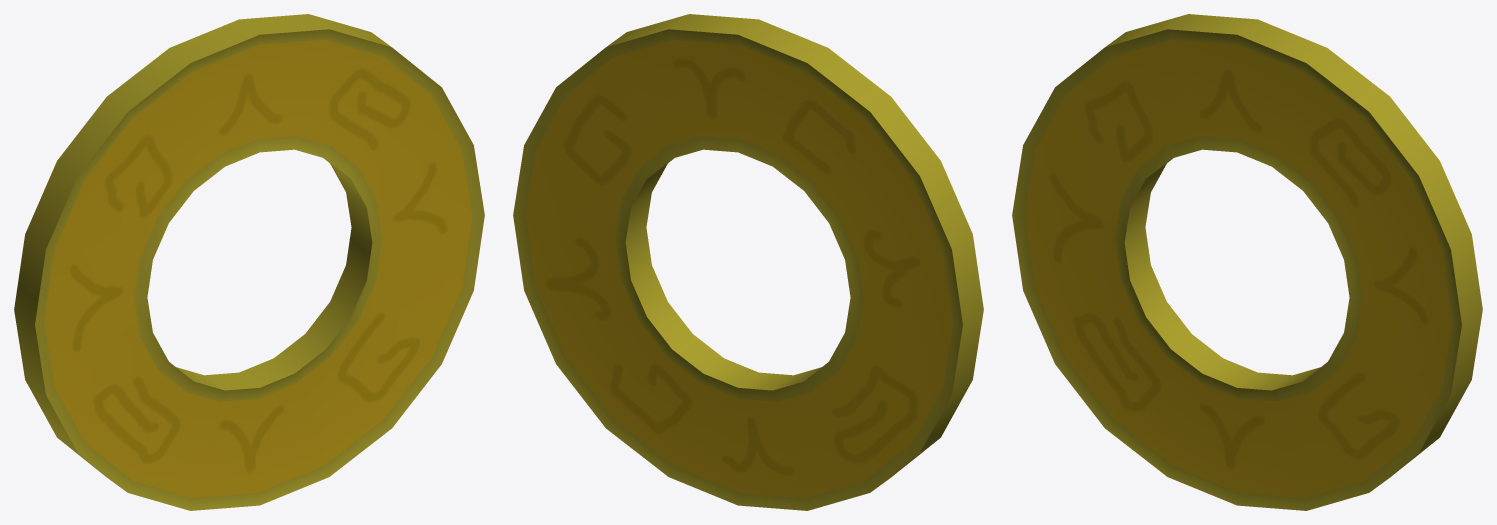
File: coin_gold03.fbx
3 renders of one model, left to right at view 1: azimuth 30°, elevation 25°; view 2: azimuth 150°, elevation 25°; view 3: azimuth 330°, elevation 25°, orthographic.
Parts seen in each view (by area): view 1: coin_gold3; view 2: coin_gold3; view 3: coin_gold3.
Part boxes in pixels (left/top/right/bottom): coin_gold3: left=14, top=14, right=484, bottom=510; coin_gold3: left=513, top=14, right=983, bottom=510; coin_gold3: left=1012, top=14, right=1482, bottom=510.
Size of the model in its own units: 0.6777 by 0.6777 by 0.0544.
Materials: 2 (1 with a texture image).
